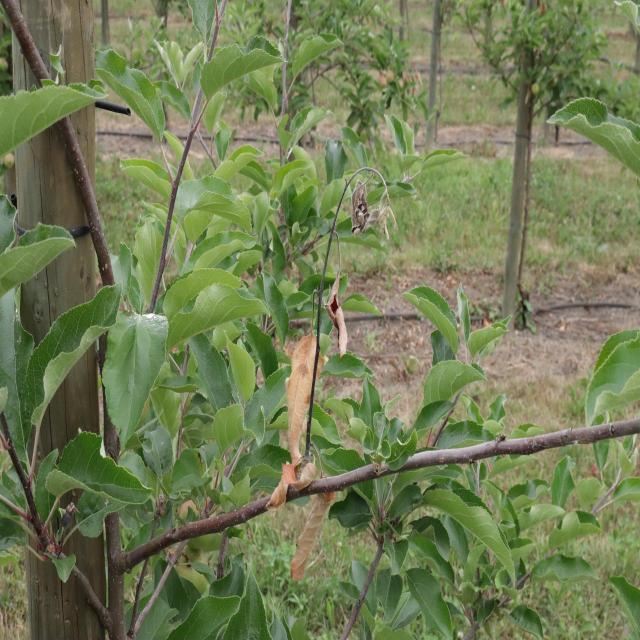-FireBlight-: (284, 324, 334, 581), (326, 271, 356, 355)
